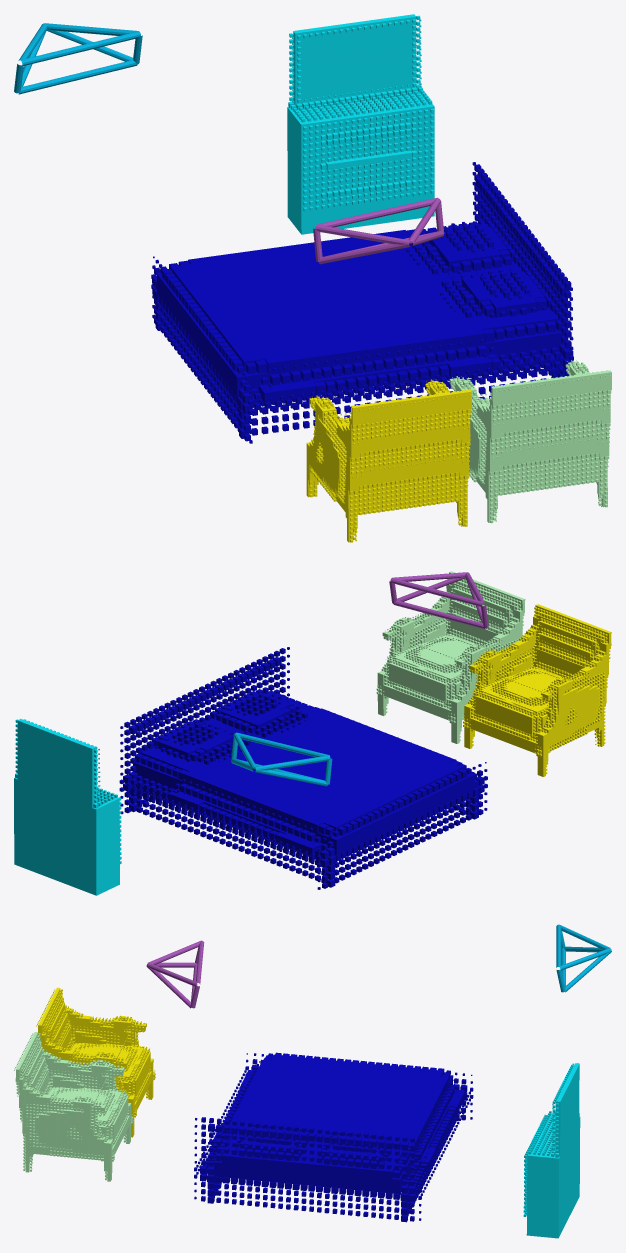
3 views of the same model, one above another, from view 1: azimuth 30°, elevation 25°; view 2: azimuth 150°, elevation 25°; view 3: azimuth 270°, elevation 25° (orthographic). The views are drawn at different scales.
Parts seen in each view (by area): view 1: Node; view 2: Node; view 3: Node.
Part boxes in pixels (left/top/right/bottom): Node: left=14, top=14, right=611, bottom=542; Node: left=14, top=571, right=611, bottom=895; Node: left=14, top=924, right=611, bottom=1238.
Size of the model in its own units: 2.78 by 1.54 by 4.79.
